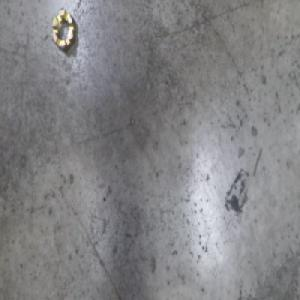Nut: (51, 9, 77, 56)
